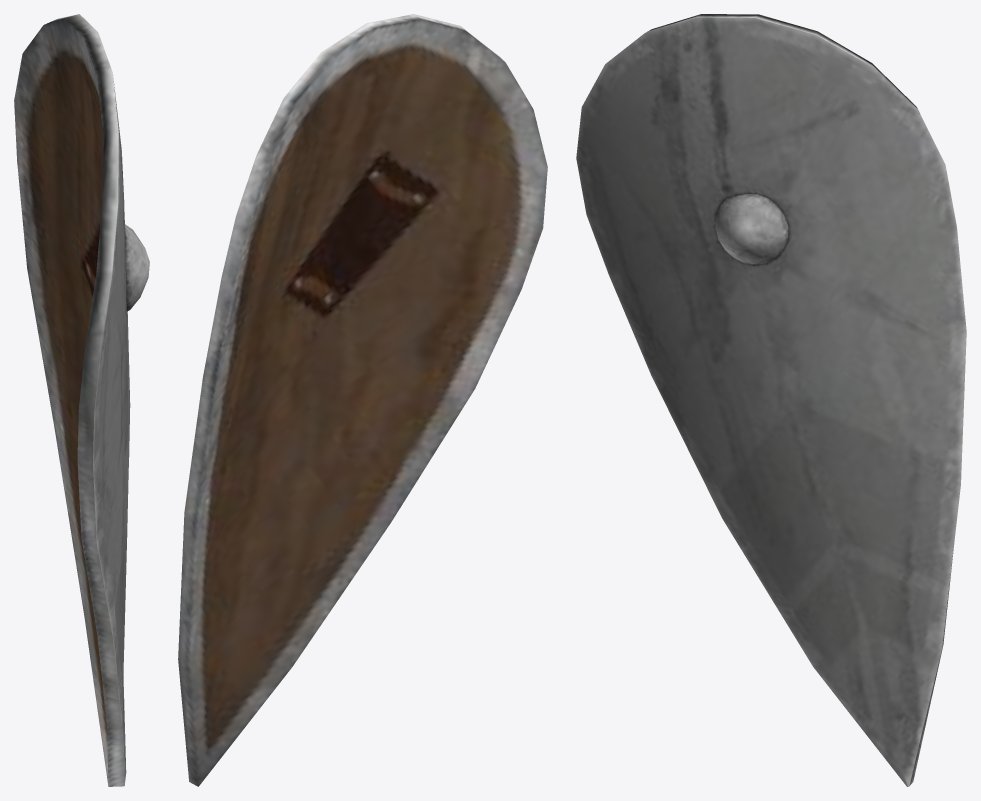
File: shield-ironshields.glb
3 views of the same model, side by side, from view 1: azimuth 30°, elevation 25°; view 2: azimuth 150°, elevation 25°; view 3: azimuth 270°, elevation 25° (orthographic). The views are drawn at different scales.
Size of the model in its own units: 0.3652 by 1.29 by 0.6333.
1 material, 1 textured.
